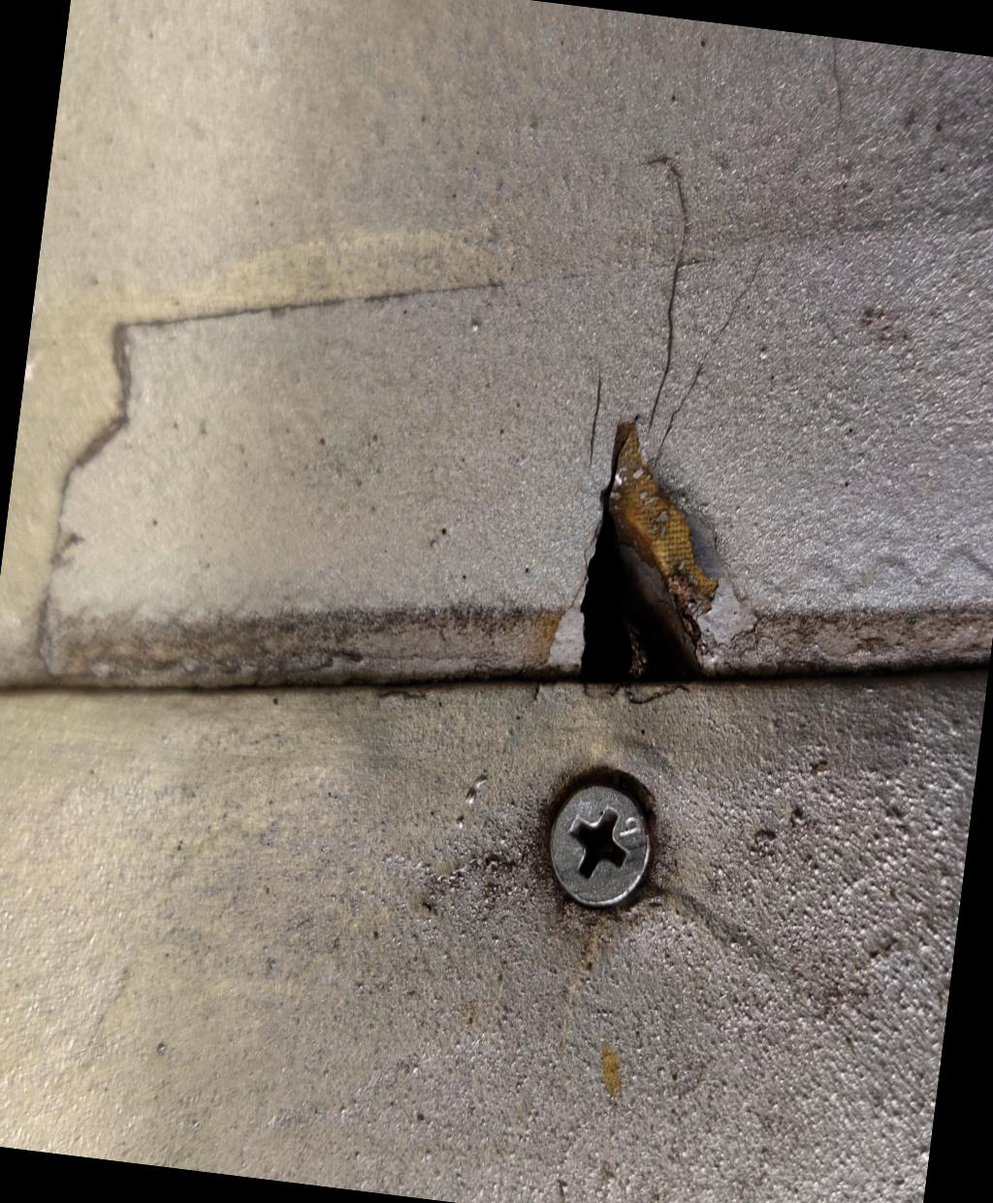crack: (481, 354, 816, 776)
